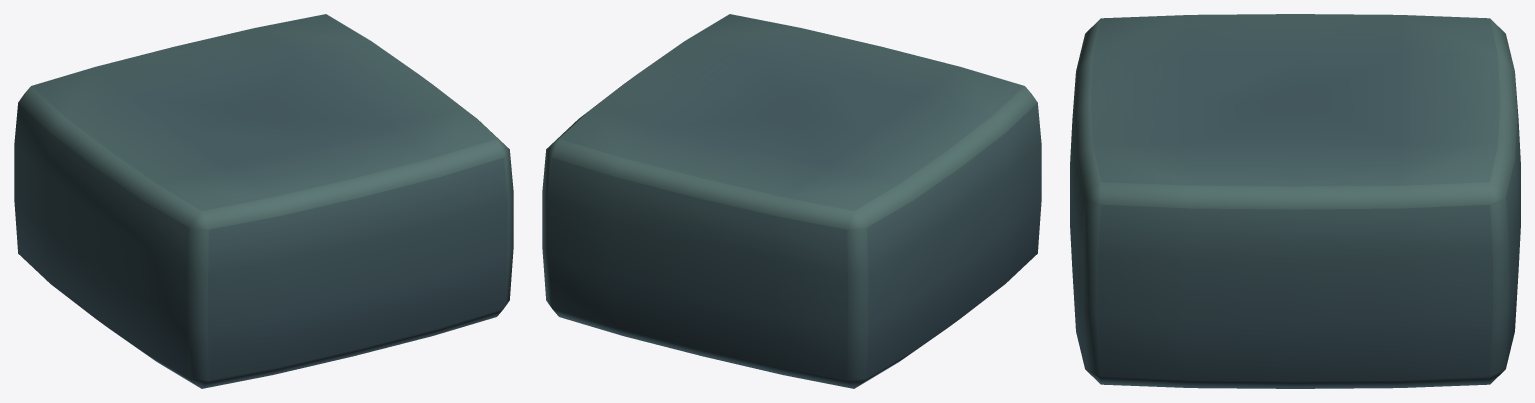
File: cube_06_shade_4_LOD_setup.fbx
3 renders of one model, left to right at view 1: azimuth 30°, elevation 25°; view 2: azimuth 150°, elevation 25°; view 3: azimuth 270°, elevation 25°, orthographic. The views are drawn at different scales.
Visible parts, largest first — view 1: cube_06_shade_4_LOD0; view 2: cube_06_shade_4_LOD0; view 3: cube_06_shade_4_LOD0.
Part boxes in pixels (x1,y1,x2,y2): cube_06_shade_4_LOD0: [14, 14, 513, 388]; cube_06_shade_4_LOD0: [542, 14, 1041, 388]; cube_06_shade_4_LOD0: [1070, 14, 1520, 388].
Size of what is drawn, in the model's own units: 219 by 108 by 218.
